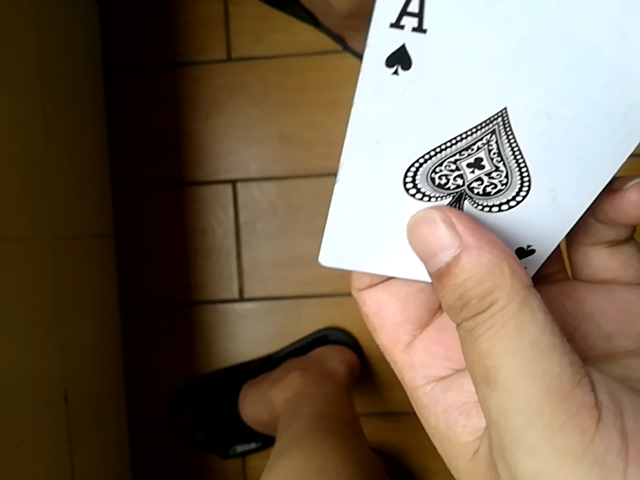ht a: (319, 0, 634, 311)
